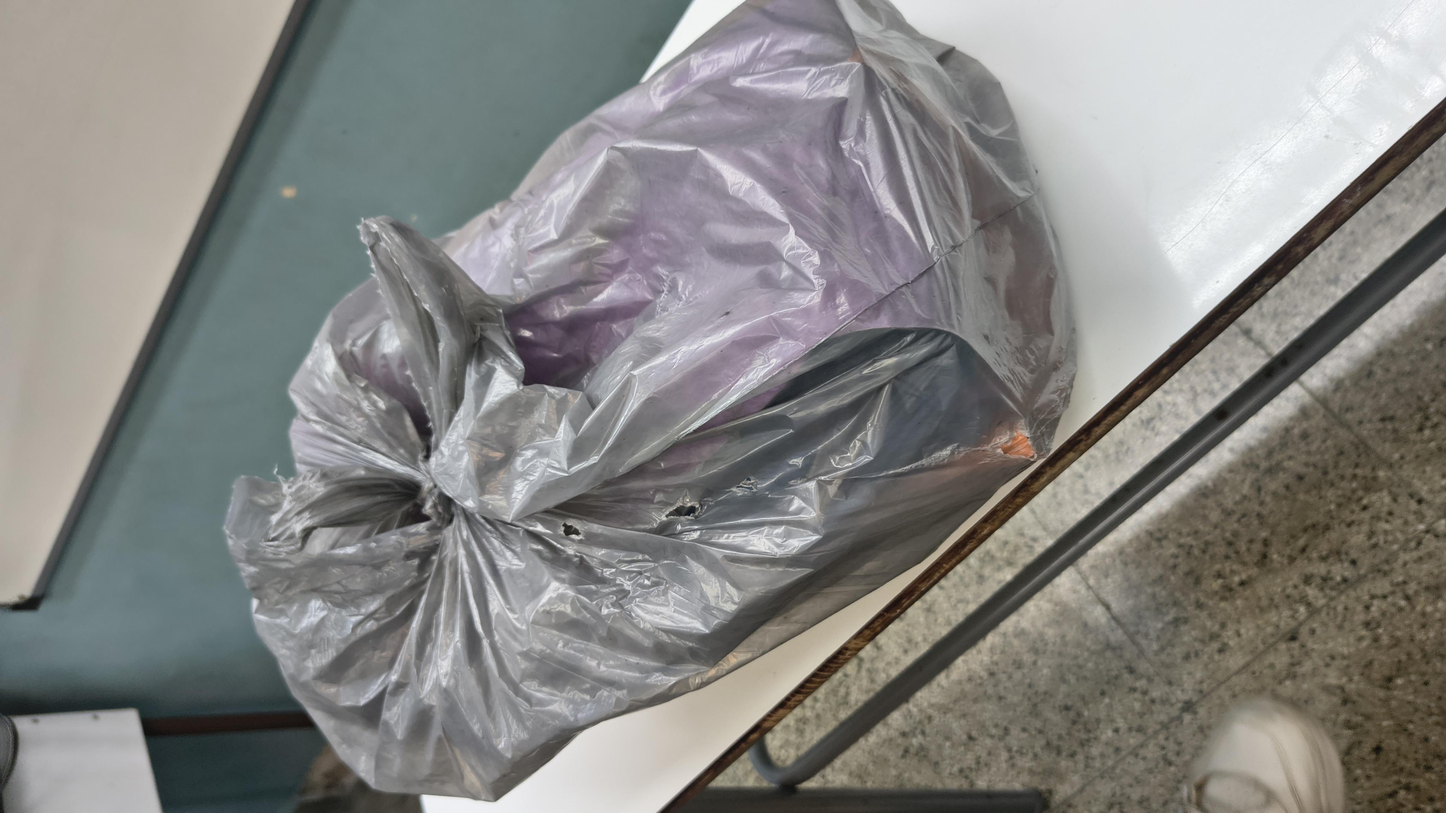Garbage: (0, 83, 1446, 615)
